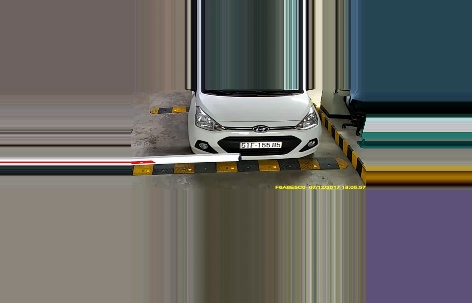plate: (237, 139, 281, 151)
